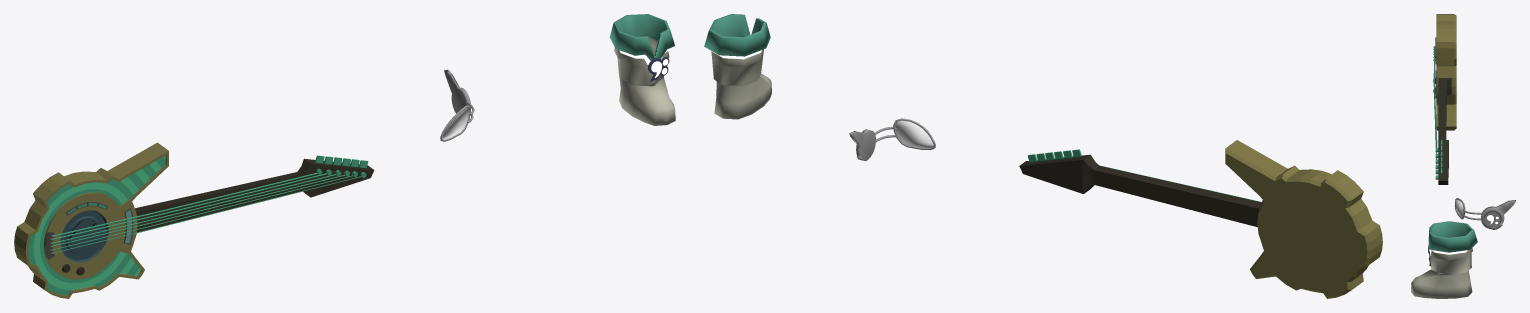
The model's file is бард.fbx.
3 views of the same model, side by side, from view 1: azimuth 30°, elevation 25°; view 2: azimuth 150°, elevation 25°; view 3: azimuth 270°, elevation 25° (orthographic). The views are drawn at different scales.
Visible parts, largest first — view 1: Цилиндр, Куб, КриваяБезье, Цилиндр.001; view 2: Цилиндр, Куб, КриваяБезье, Цилиндр.001; view 3: Куб, Цилиндр, Цилиндр.001, КриваяБезье.
Part boxes in pixels (x1,y1,x2,y2): Цилиндр: (14, 142, 374, 298); Куб: (609, 14, 675, 125); КриваяБезье: (440, 105, 470, 141); Цилиндр.001: (444, 69, 471, 113); Цилиндр: (1019, 140, 1382, 298); Куб: (704, 14, 771, 119); КриваяБезье: (893, 118, 935, 150); Цилиндр.001: (849, 129, 875, 160); Куб: (1411, 221, 1477, 298); Цилиндр: (1433, 14, 1456, 184); Цилиндр.001: (1481, 200, 1515, 229); КриваяБезье: (1454, 198, 1465, 219).
Size of the model in its own units: 2106 by 384 by 378.
